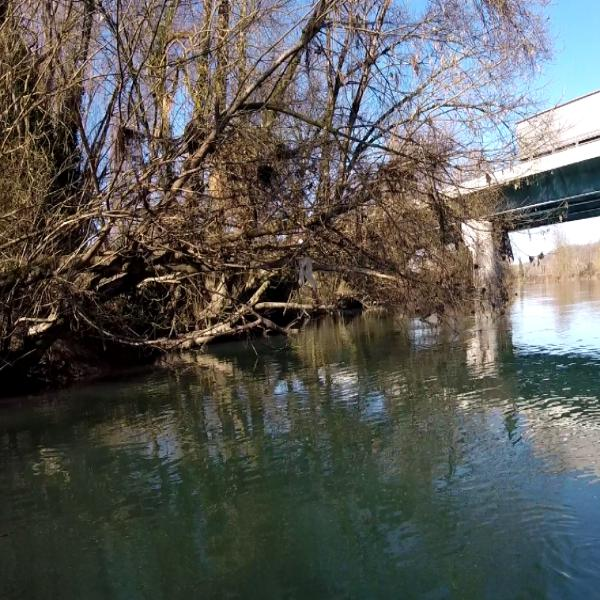fragments: (297, 256, 317, 289)
